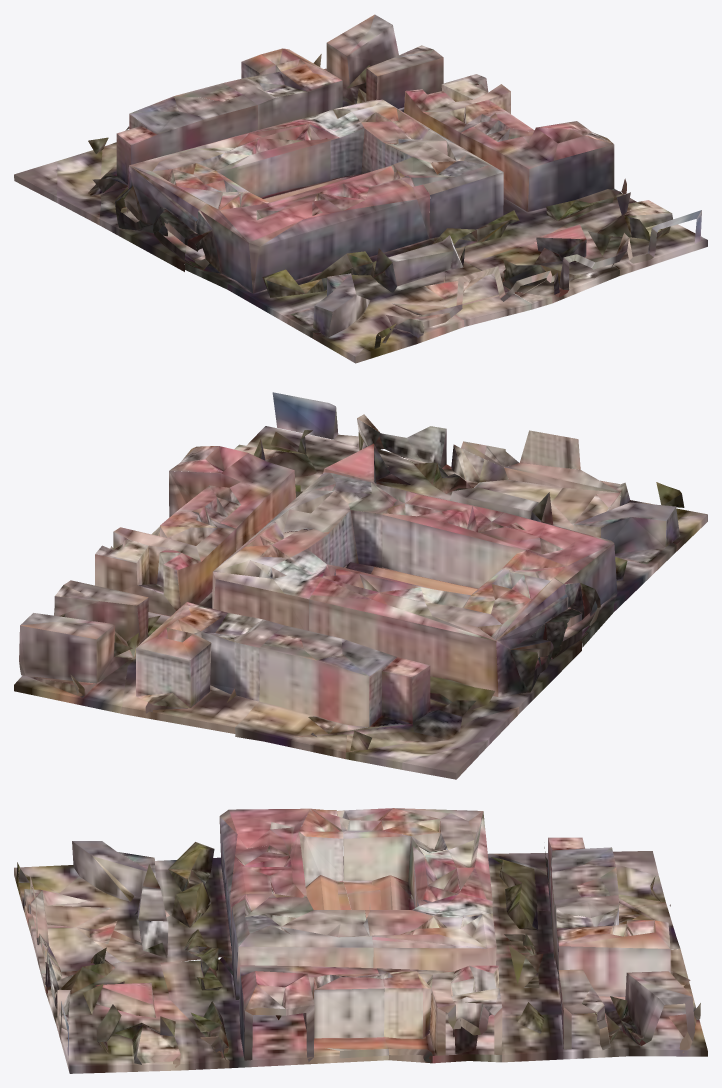
The picture shows the model from 3 angles, top to bottom: view 1: azimuth 30°, elevation 25°; view 2: azimuth 150°, elevation 25°; view 3: azimuth 270°, elevation 25°; orthographic projection. The views are drawn at different scales.
Visible parts, largest first — view 1: Mesh_0; view 2: Mesh_0; view 3: Mesh_0.
Part boxes in pixels (bbox=[...]): Mesh_0: bbox=[14, 14, 707, 363]; Mesh_0: bbox=[14, 392, 707, 779]; Mesh_0: bbox=[14, 808, 707, 1073].
Size of the model in its own units: 266 by 46.14 by 330.
Materials: 2 (2 with a texture image).
